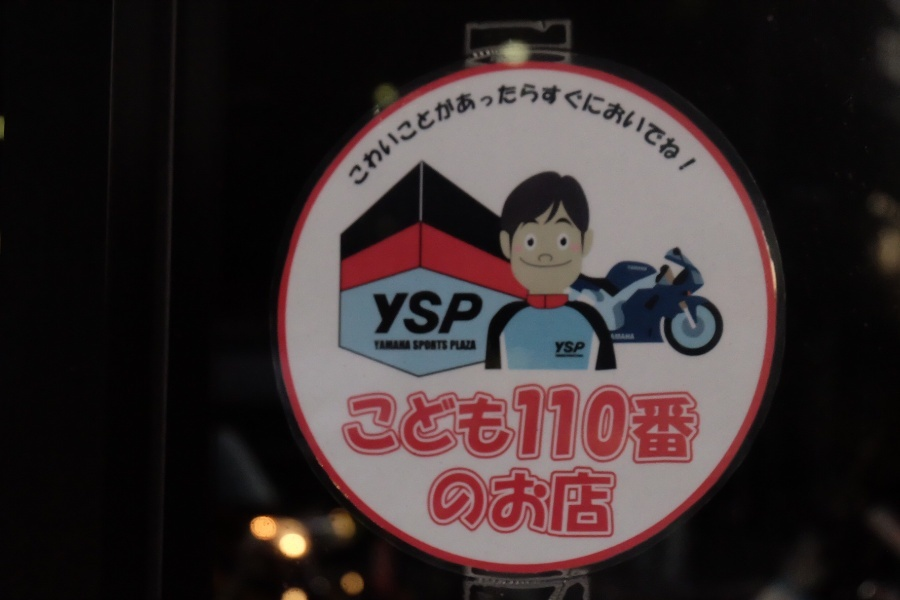text: (353, 83, 368, 189), (369, 83, 384, 189), (385, 83, 400, 189), (401, 83, 416, 189), (417, 83, 432, 189), (433, 83, 448, 189), (449, 83, 464, 189), (465, 83, 480, 189), (481, 83, 496, 189), (497, 83, 512, 189), (513, 83, 528, 189), (529, 83, 544, 189), (545, 83, 560, 189), (561, 83, 576, 189), (577, 83, 592, 189), (593, 83, 608, 189), (609, 83, 624, 189), (625, 83, 640, 189), (641, 83, 656, 189), (657, 83, 672, 189), (673, 83, 688, 189), (353, 383, 368, 467), (369, 383, 384, 467), (385, 383, 400, 467), (401, 383, 416, 467), (417, 383, 432, 467), (433, 383, 448, 467), (449, 383, 464, 467), (465, 383, 480, 467), (481, 383, 496, 467), (497, 383, 512, 467), (513, 383, 528, 467), (529, 383, 544, 467), (545, 383, 560, 467), (561, 383, 576, 467), (577, 383, 592, 467), (593, 383, 608, 467), (609, 383, 624, 467), (625, 383, 640, 467), (641, 383, 656, 467), (657, 383, 672, 467), (673, 383, 688, 467), (433, 461, 448, 540), (449, 461, 464, 540), (465, 461, 480, 540), (481, 461, 496, 540), (497, 461, 512, 540), (513, 461, 528, 540), (529, 461, 544, 540), (545, 461, 560, 540), (561, 461, 576, 540), (577, 461, 592, 540), (593, 461, 608, 540), (689, 83, 700, 189), (689, 383, 700, 467), (609, 461, 619, 540), (385, 290, 400, 335), (401, 290, 416, 335), (417, 290, 432, 335), (433, 290, 448, 335), (449, 290, 464, 335), (465, 290, 480, 335), (344, 383, 352, 467), (372, 290, 384, 335), (348, 83, 352, 189), (481, 290, 486, 335), (561, 341, 576, 355), (430, 461, 432, 540), (385, 340, 400, 350), (450, 340, 464, 350), (577, 341, 587, 355), (417, 341, 432, 350), (433, 341, 447, 350), (465, 340, 476, 350), (611, 333, 624, 341), (374, 340, 384, 350), (401, 340, 410, 350), (625, 333, 635, 341), (555, 341, 560, 355), (561, 354, 576, 358), (577, 354, 584, 358), (555, 354, 560, 358), (414, 341, 416, 350)
